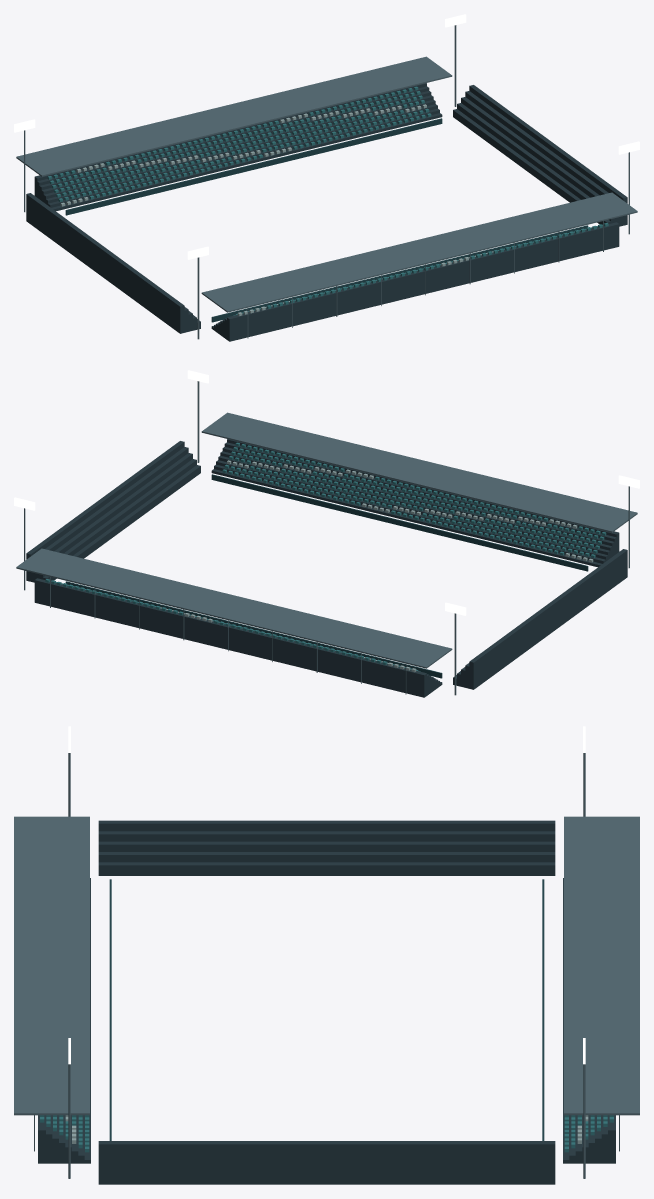
File: stadium.glb
3 views of the same model, one above another, from view 1: azimuth 30°, elevation 25°; view 2: azimuth 150°, elevation 25°; view 3: azimuth 270°, elevation 25° (orthographic). The views are drawn at different scales.
Visible parts, largest first — view 1: Terrace, Canopy, Seat.005, PerimeterBoard, Seat, FloodlightBank; view 2: Terrace, Canopy, Seat.005, PerimeterBoard, Seat, FloodlightBank; view 3: Terrace, Canopy, PerimeterBoard, Seat.005.
Part boxes in pixels (<box>): Terrace: <box>26,83,627,341</box>; Canopy: <box>16,25,637,339</box>; Seat.005: <box>47,86,608,315</box>; PerimeterBoard: <box>65,118,588,322</box>; Seat: <box>60,104,493,316</box>; FloodlightBank: <box>14,14,639,259</box>; Terrace: <box>26,439,627,697</box>; Canopy: <box>16,381,637,695</box>; Seat.005: <box>45,442,606,671</box>; PerimeterBoard: <box>65,474,588,678</box>; Seat: <box>160,460,593,672</box>; FloodlightBank: <box>14,370,639,615</box>; Terrace: <box>38,820,615,1184</box>; Canopy: <box>14,753,639,1178</box>; PerimeterBoard: <box>109,879,544,1140</box>; Seat.005: <box>40,1115,613,1152</box>.
Bounding box in the file's own units: 132 × 25.1 × 107.
